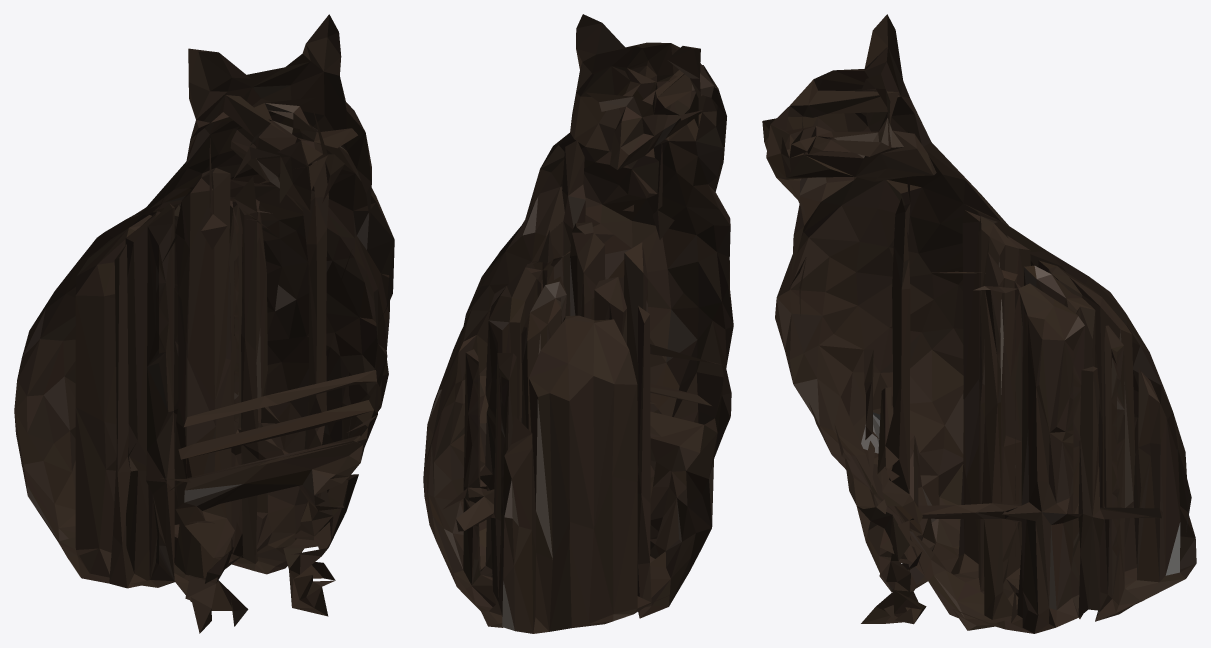
Rendered from moth-lowpoly.glb.
3 renders of one model, left to right at view 1: azimuth 30°, elevation 25°; view 2: azimuth 150°, elevation 25°; view 3: azimuth 270°, elevation 25°, orthographic. The views are drawn at different scales.
Visible parts, largest first — view 1: Moth; view 2: Moth; view 3: Moth.
Part boxes in pixels (box(x1,y1,x2,y2)): Moth: box(14, 14, 394, 633); Moth: box(423, 14, 733, 633); Moth: box(762, 14, 1196, 633).
Bounding box in the file's own units: 1 × 1.91 × 1.34.
